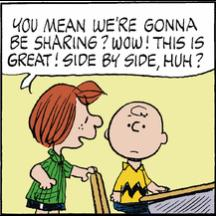charlie: (103, 101, 171, 215)
